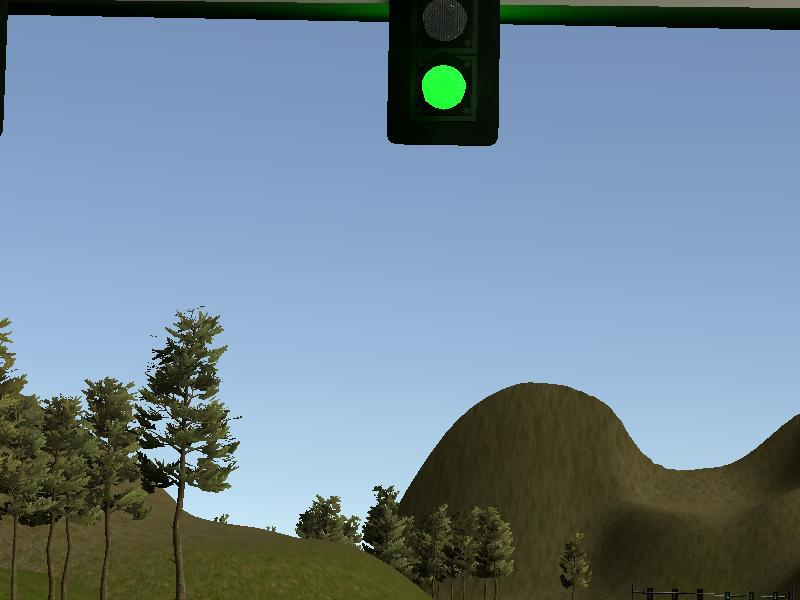Green: (385, 1, 503, 151)
